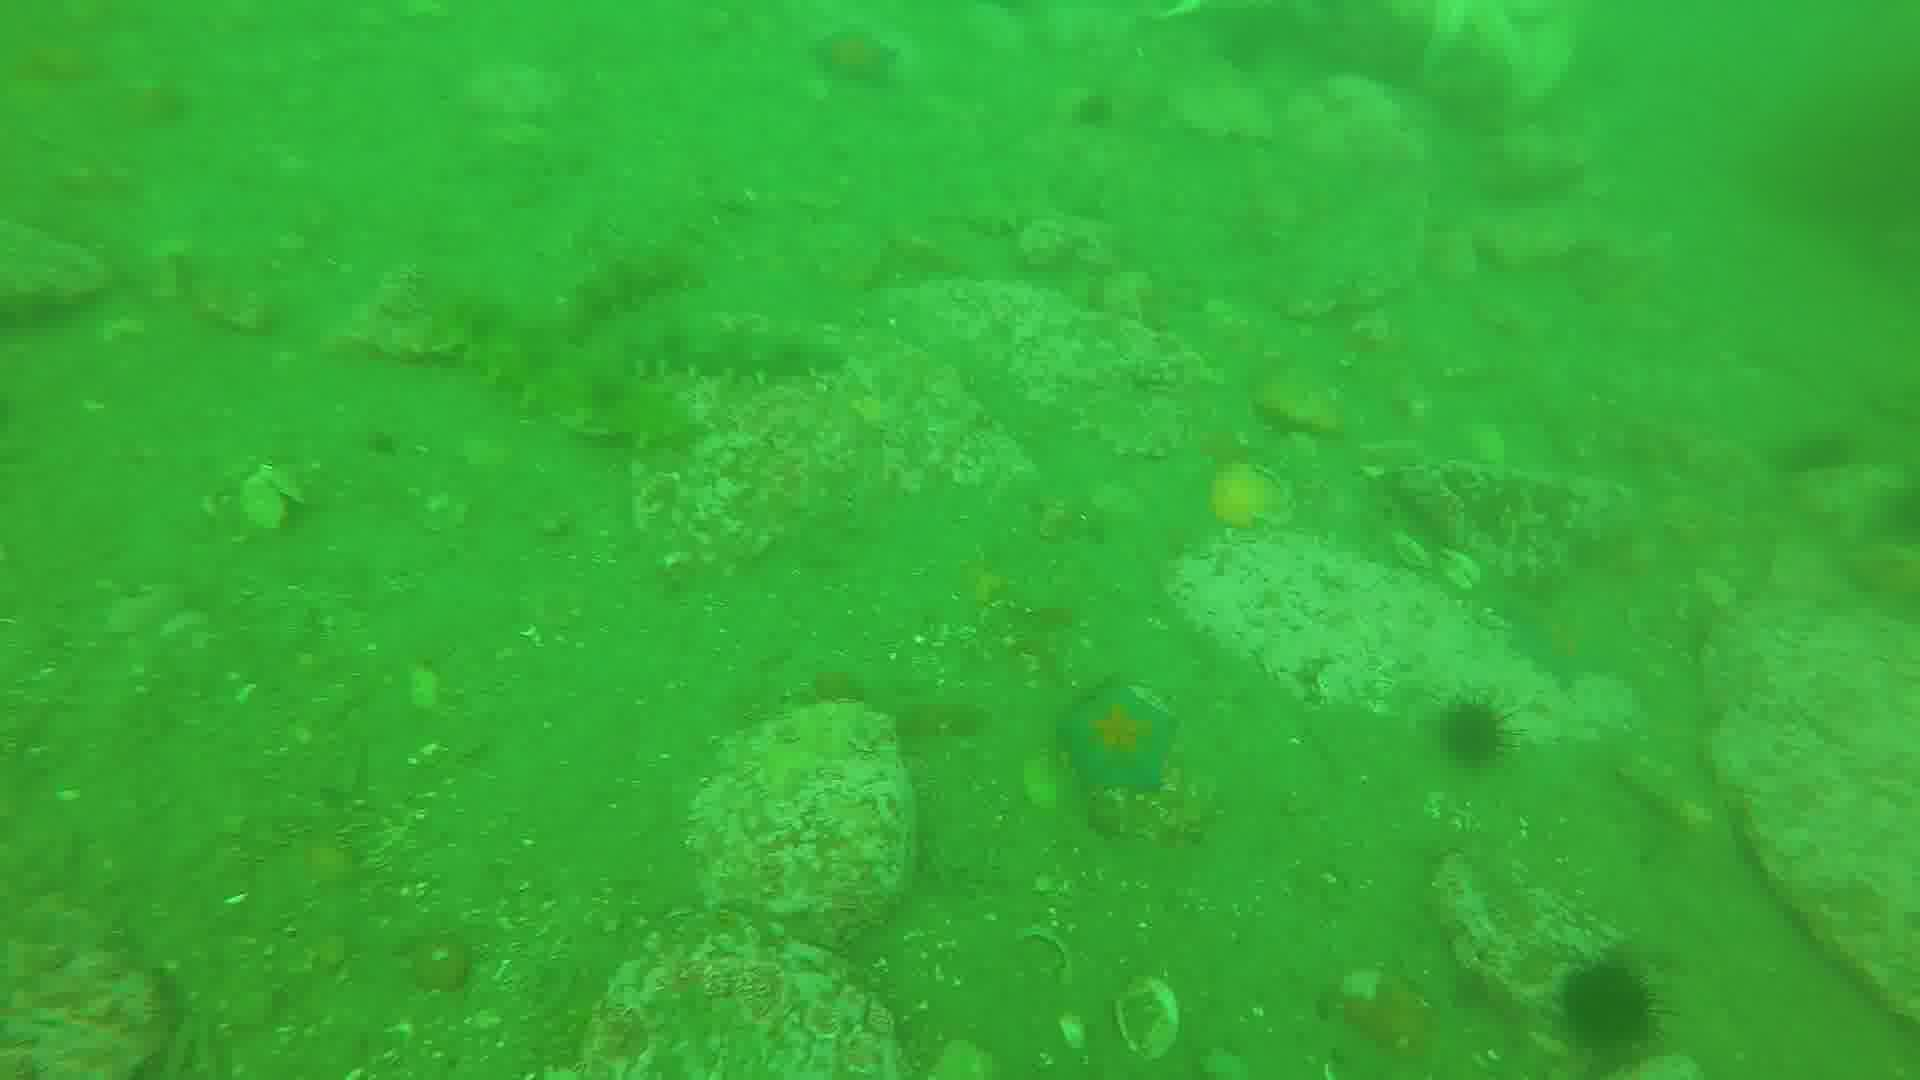echinus: (1557, 953, 1672, 1062), (1437, 695, 1520, 769)
holothurian: (442, 301, 695, 443), (589, 309, 847, 388)
scallop: (1208, 463, 1307, 534), (235, 458, 310, 541), (1116, 978, 1187, 1065)
starfish: (1062, 679, 1179, 796)
